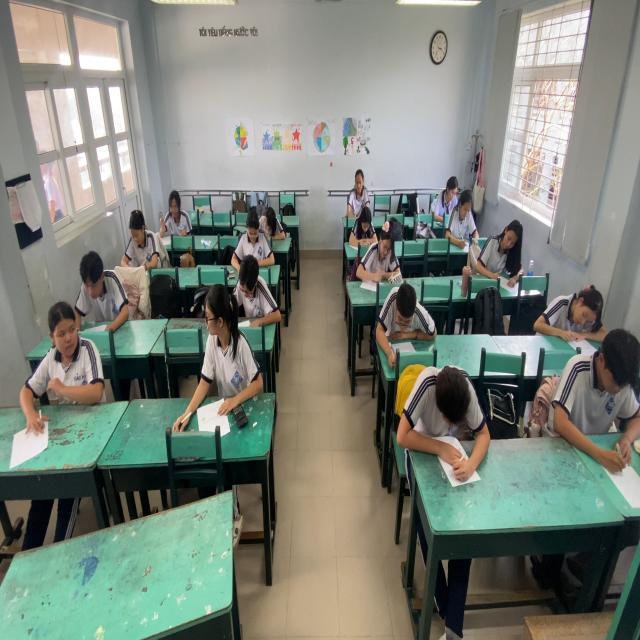cheating: (190, 284, 261, 416), (44, 302, 102, 432)
not_cheating: (565, 326, 639, 474), (410, 358, 482, 477), (72, 245, 132, 334), (540, 270, 604, 342), (234, 249, 277, 325), (384, 270, 424, 350), (485, 212, 522, 290), (364, 222, 398, 292), (123, 205, 156, 272), (448, 184, 474, 256), (243, 214, 275, 270), (341, 160, 373, 214), (434, 170, 459, 224), (162, 186, 187, 239), (259, 195, 284, 245), (348, 206, 379, 242)
